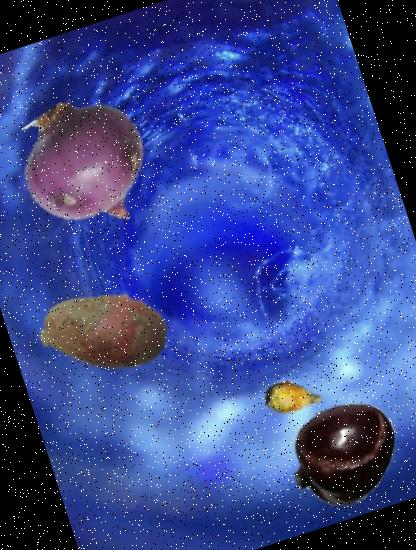Cactus: (257, 360, 330, 434)
Cherry: (276, 385, 414, 524)
Onion: (2, 80, 172, 250)
Potato: (21, 245, 187, 410)
